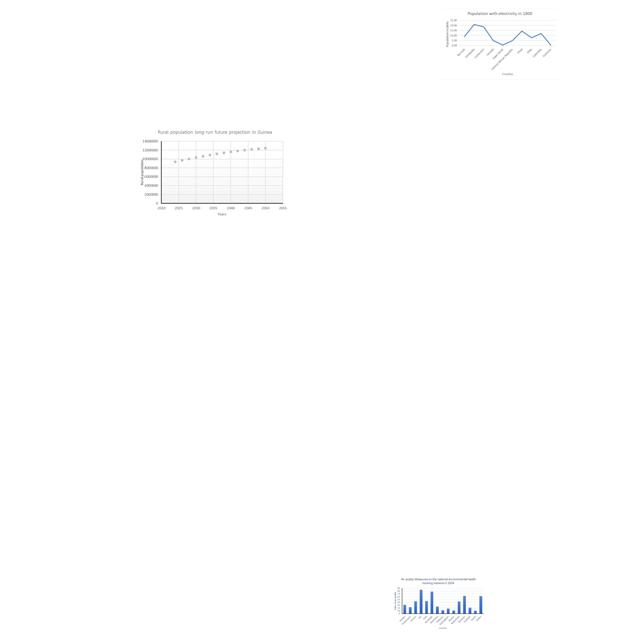Graph: (140, 128, 288, 217), (441, 8, 558, 80), (392, 576, 485, 631)
